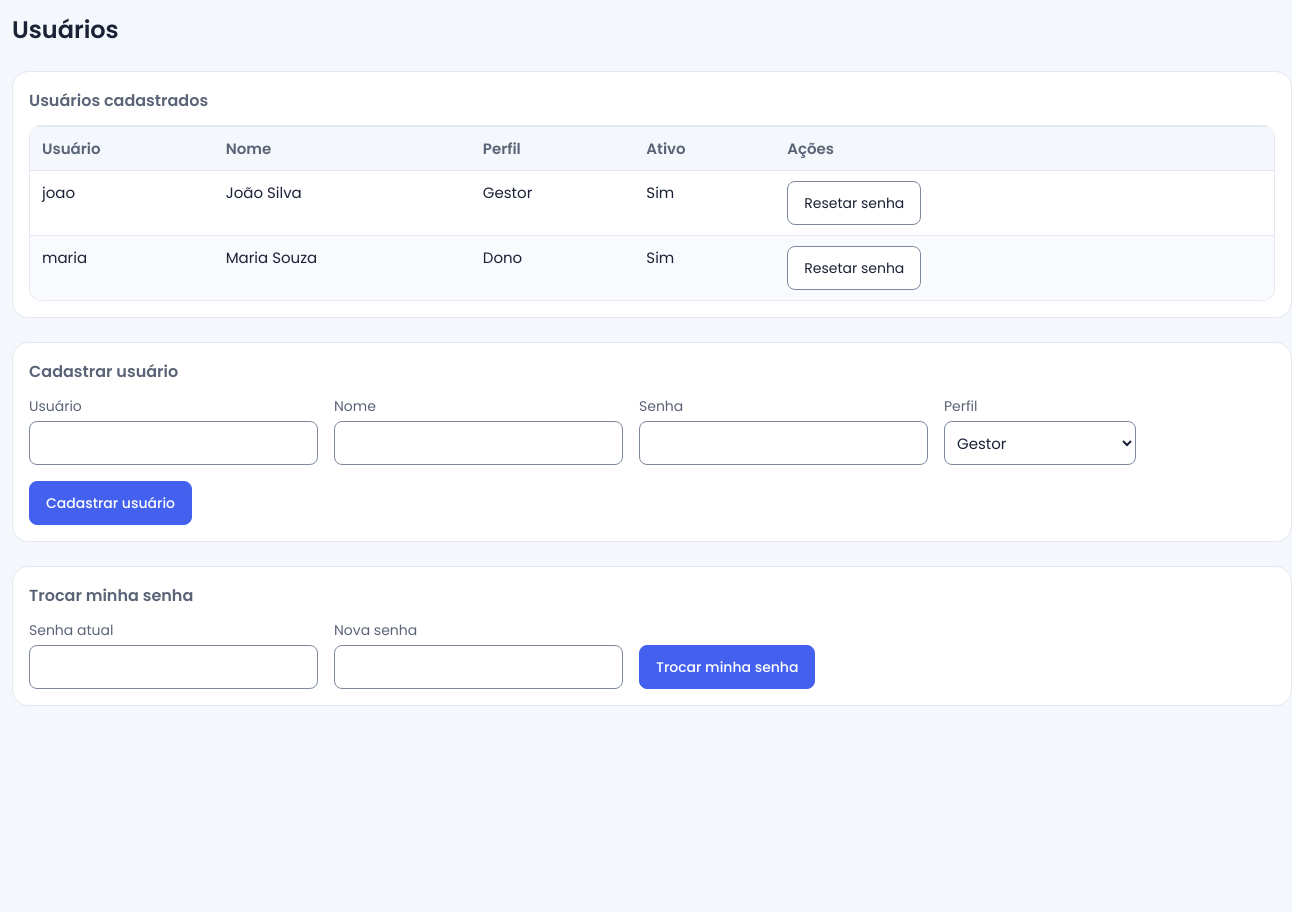
Test case: UsuariosPage › cadastrar um novo usuário com dados válidos (mock do service) atualiza a lista exibida
This screenshot has width=1292, height=912.
Expected: the cell "joao" is shown, [30, 170, 214, 236]
In the field labelled "Usuário": coordinates (174, 443) [29, 421, 318, 465], type "pedro"
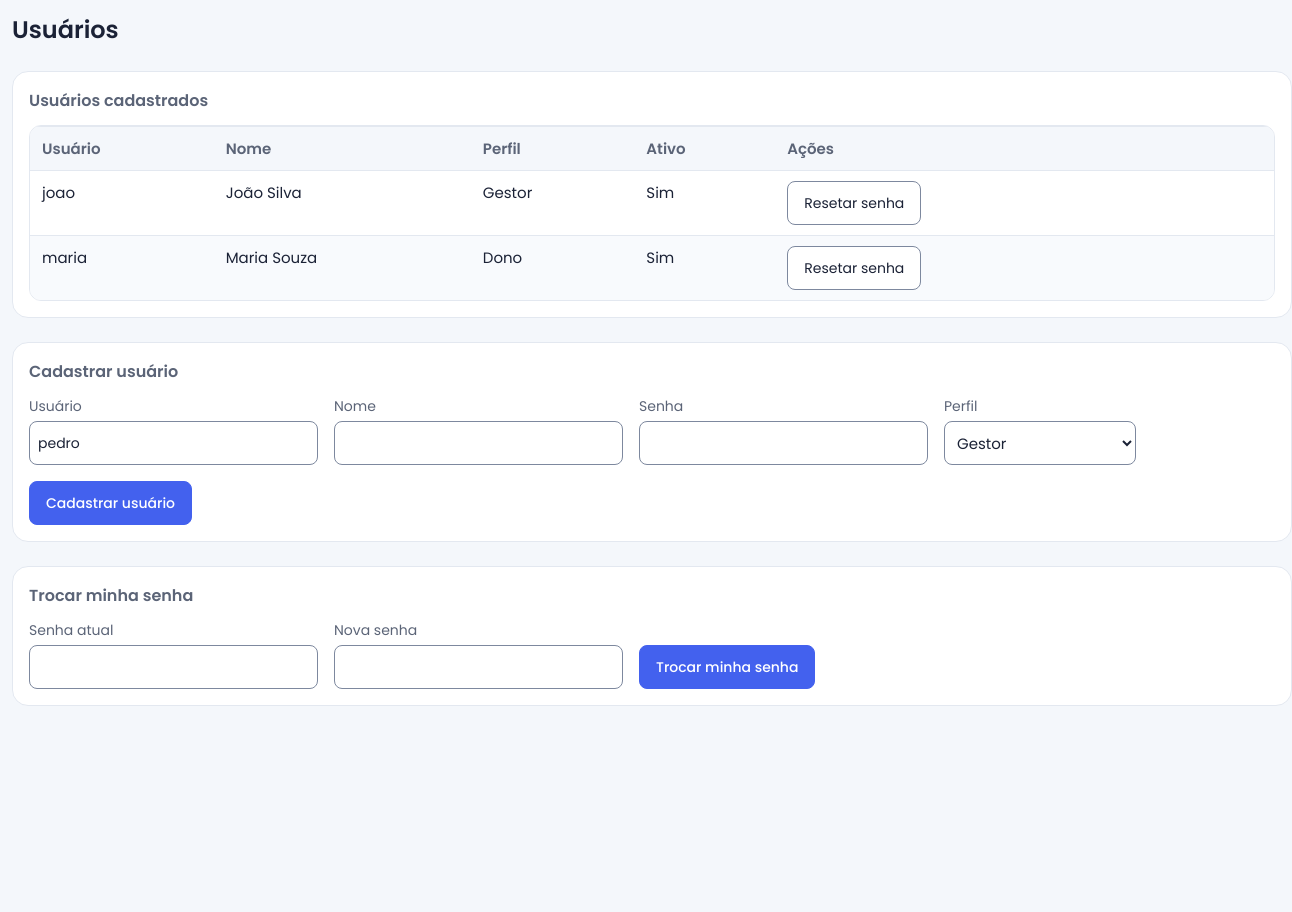
In the field labelled "Nome": coordinates (478, 443) [334, 421, 623, 465], type "Pedro Lima"
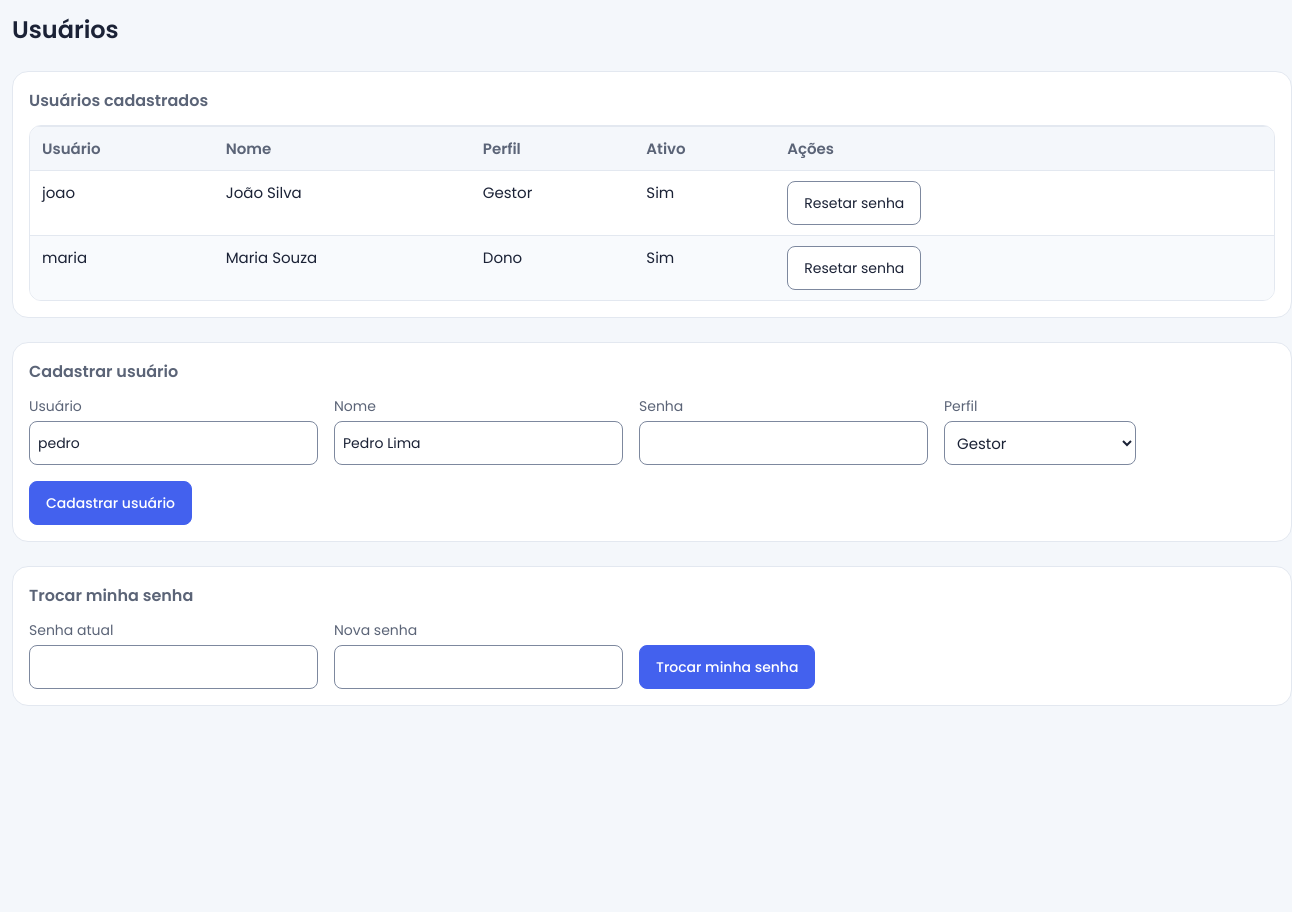
In the password field labelled "Senha": coordinates (784, 443) [639, 421, 928, 465], type "segredo123"
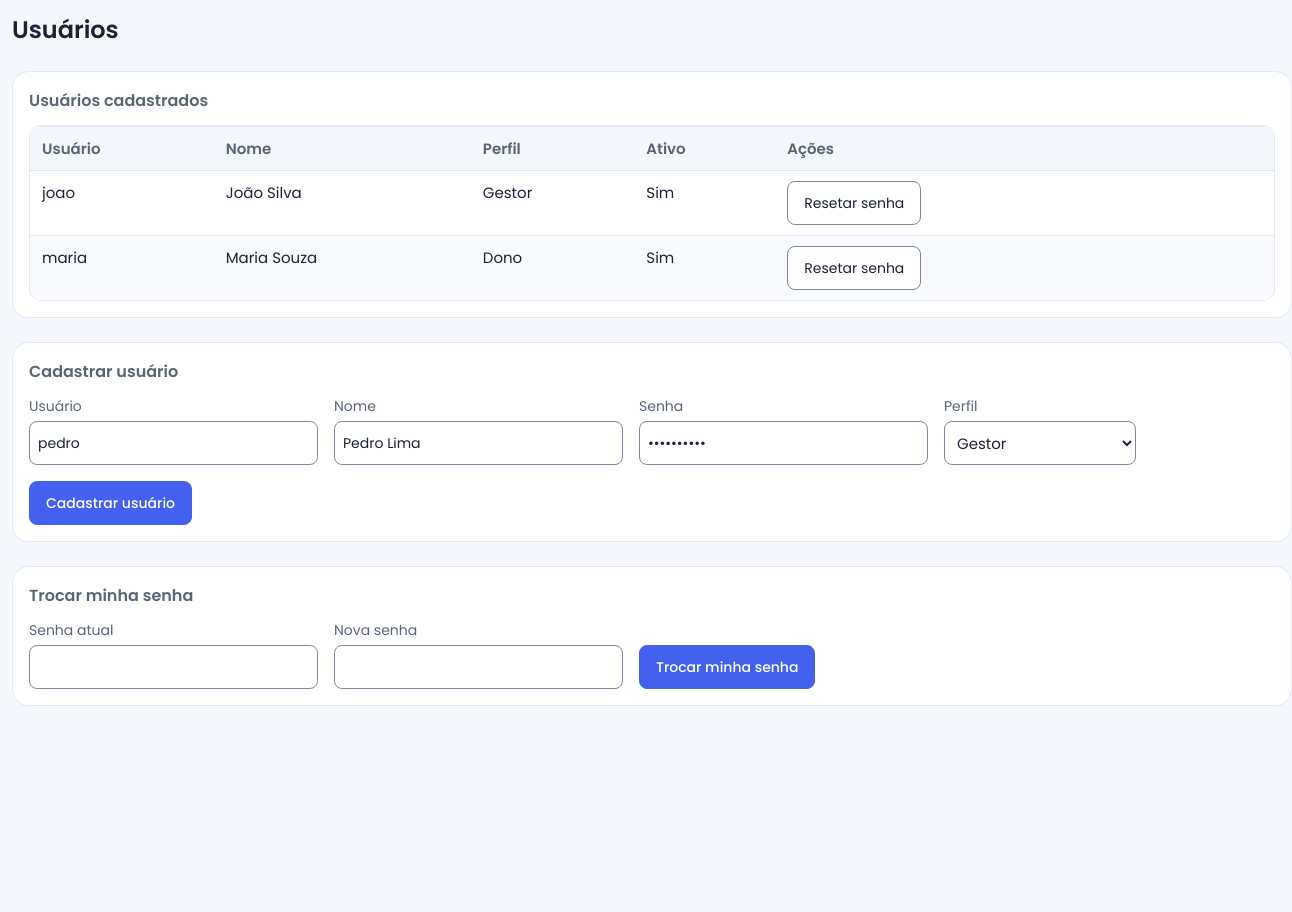
Select "Gerente de loja" in the dropdown labelled "Perfil": coordinates (1040, 443) [944, 421, 1136, 465]
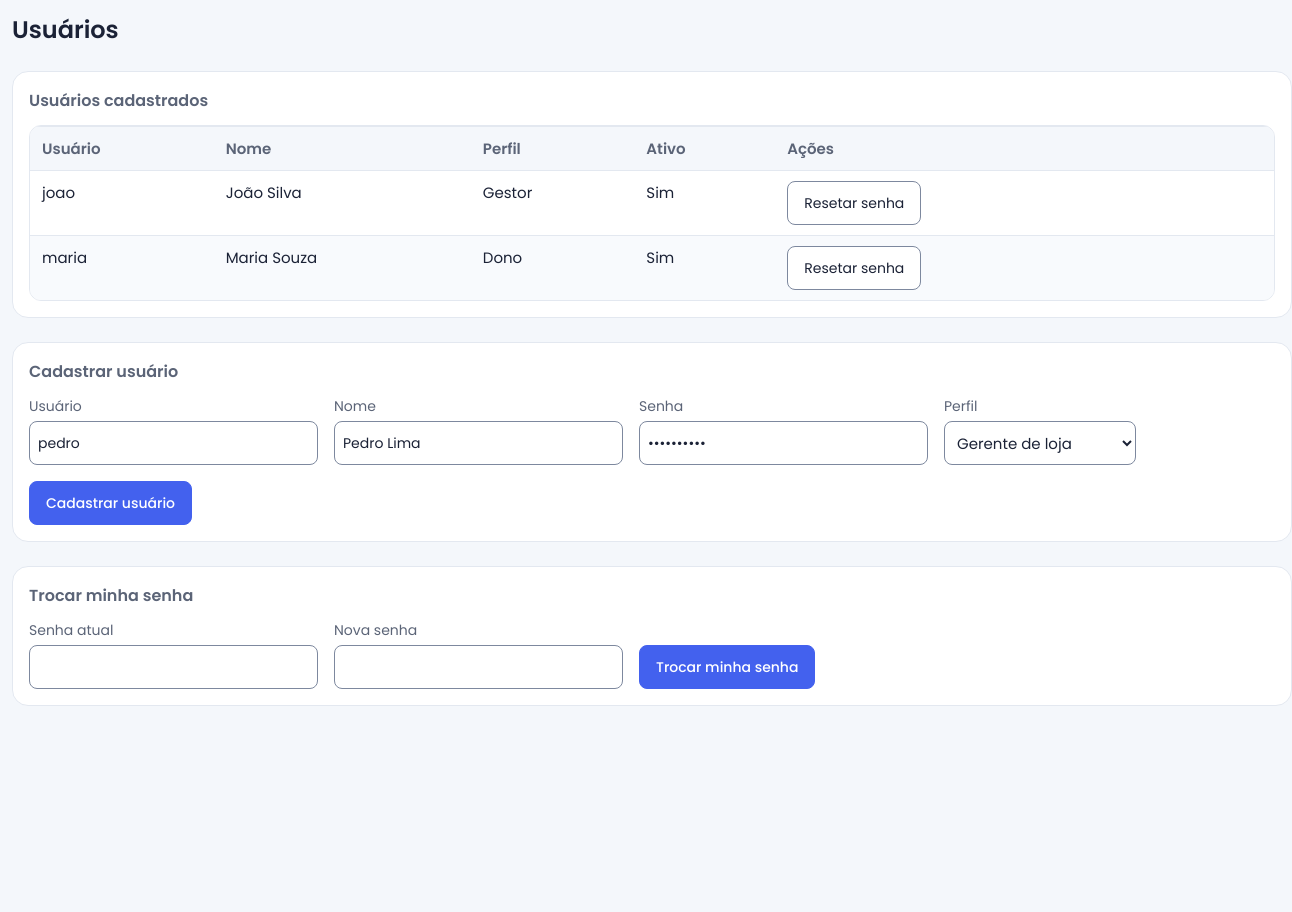
Click the button "Cadastrar usuário": coordinates (110, 503) [29, 481, 192, 525]
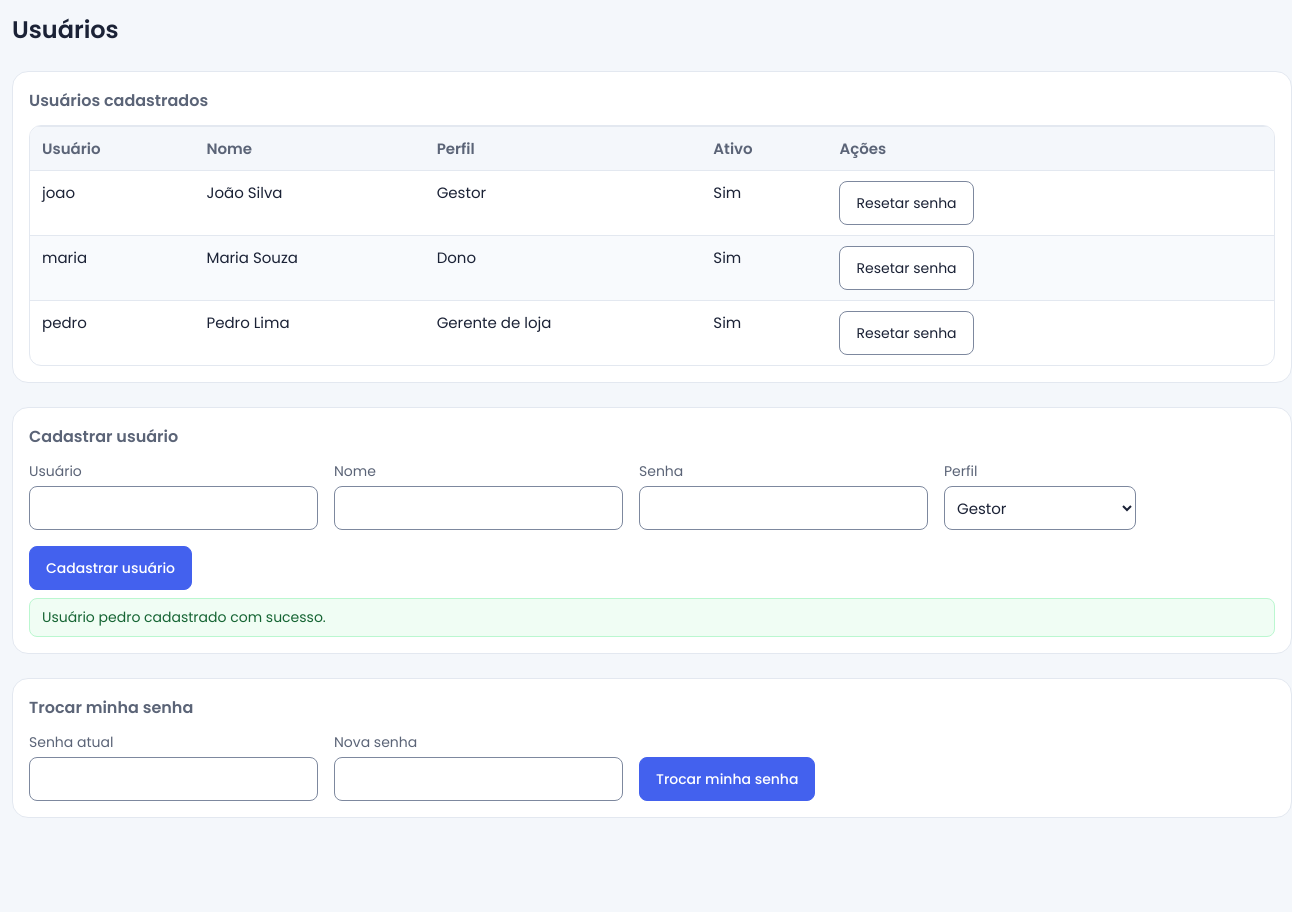
Now the cell "pedro" is shown, box [30, 300, 194, 365]
Now the number of rows is 4, box [30, 126, 1274, 170]; [30, 170, 1274, 236]; [30, 236, 1274, 300]; [30, 300, 1274, 365]
Now the field labelled "Usuário" is empty, box [29, 486, 318, 530]
